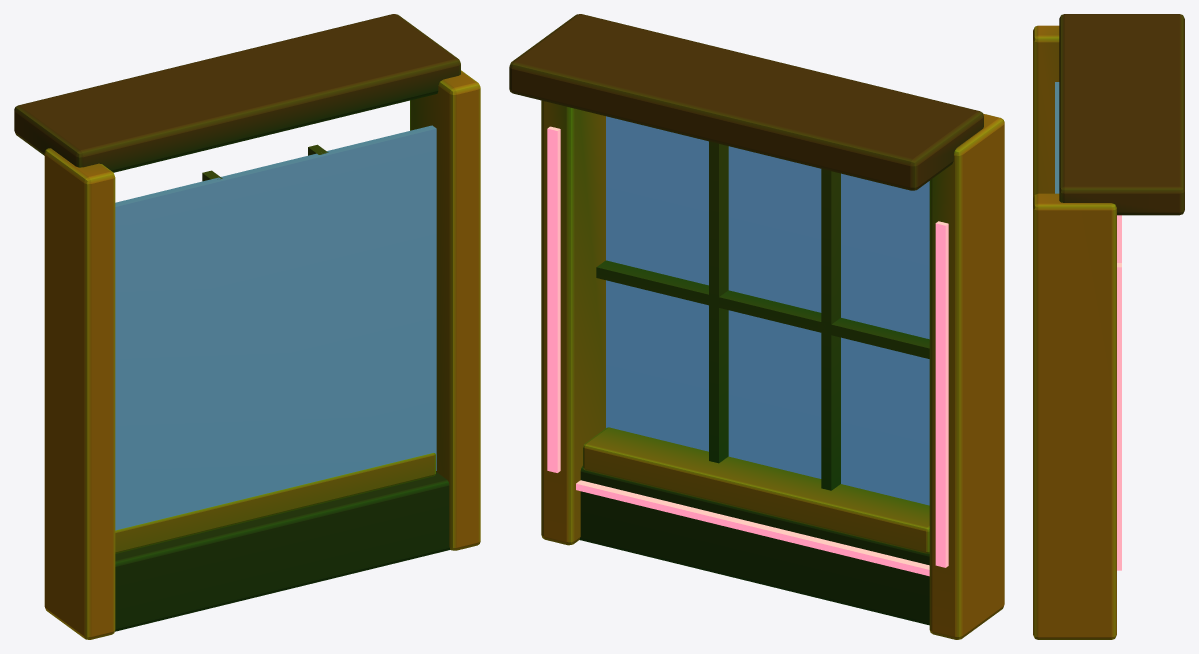
The model's file is wall_window.glb.
3 views of the same model, side by side, from view 1: azimuth 30°, elevation 25°; view 2: azimuth 150°, elevation 25°; view 3: azimuth 270°, elevation 25° (orthographic). The views are drawn at different scales.
Visible parts, largest first — view 1: wall_window; view 2: wall_window; view 3: wall_window.
Part boxes in pixels (x1,y1,x2,y2): wall_window: (14,14,480,639); wall_window: (509,14,1004,639); wall_window: (1033,14,1184,639).
Size of the model in its own units: 4.12 by 4.75 by 1.45.
